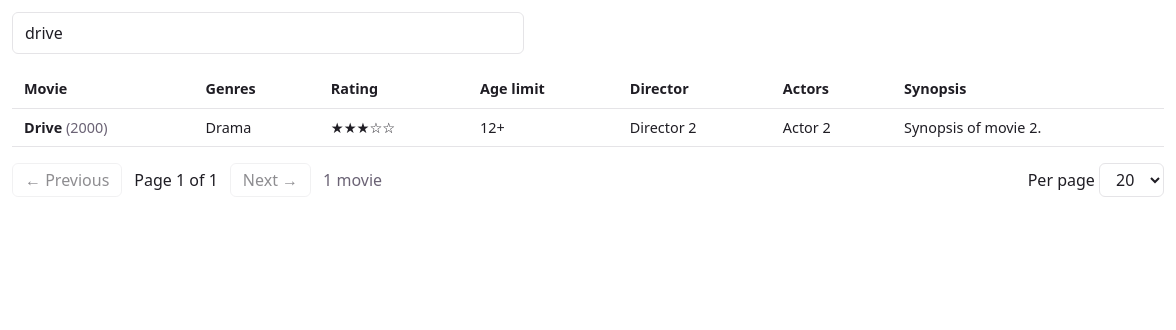
it: MovieList search › lists all movies again when the search is cleared
The width and height of the screenshot is (1176, 330).
Expected: the text "1 movie" is shown, [323, 168, 382, 192]
Clear the search field named "Search movies". click: coordinates (268, 33)
box: [12, 12, 524, 54]
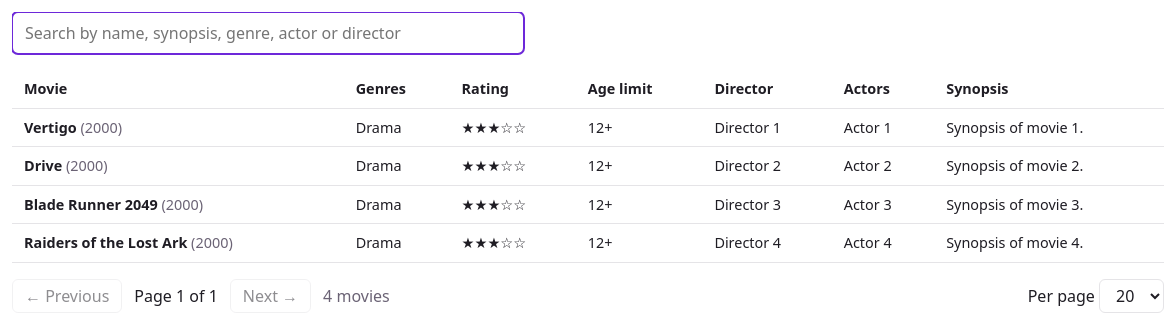
Expected: the text "4 movies" is shown, [323, 284, 390, 308]
